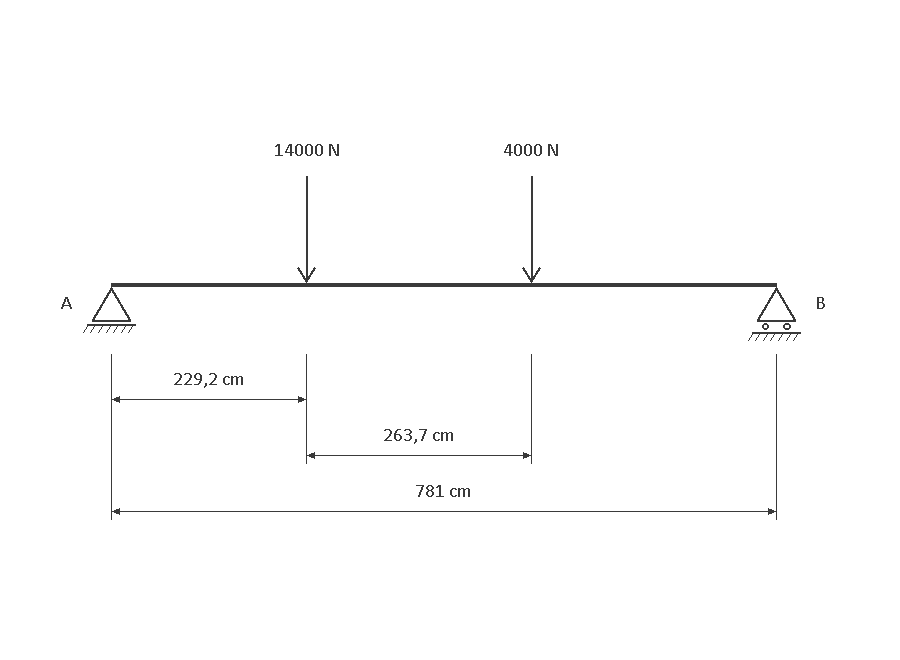pin_support: (83, 287, 136, 333)
point_load: (297, 176, 316, 283), (522, 176, 541, 283)
roller_support: (748, 287, 801, 341)
